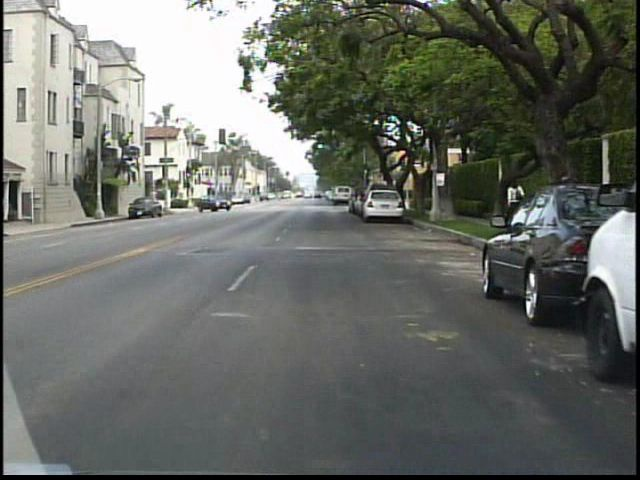person: (502, 172, 529, 234)
